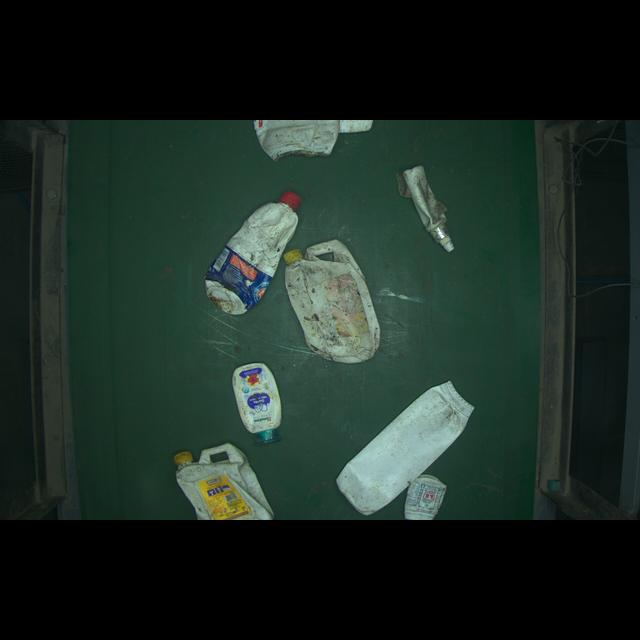mix PET: (284, 235, 385, 367), (173, 436, 288, 523), (398, 157, 464, 257), (231, 362, 289, 445), (406, 472, 447, 517)
